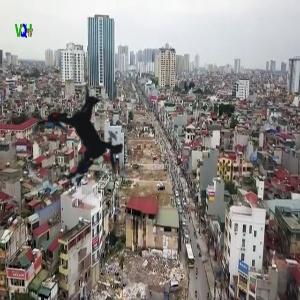drone: (3, 55, 173, 225)
